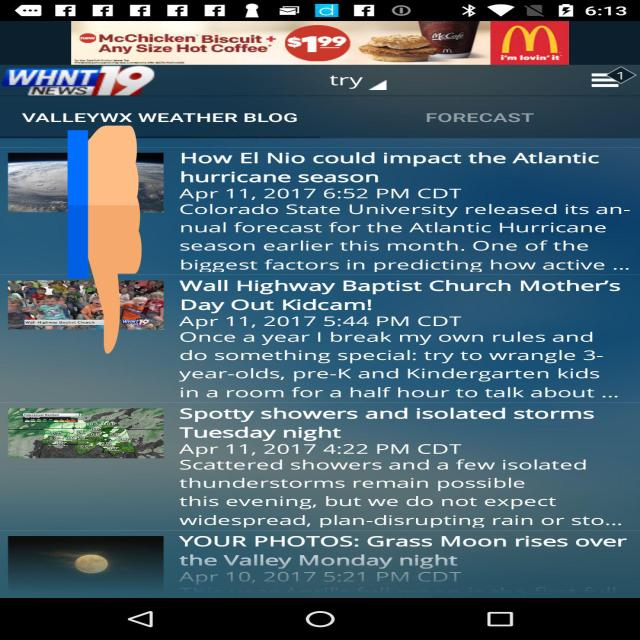obstruction: (67, 120, 142, 359)
